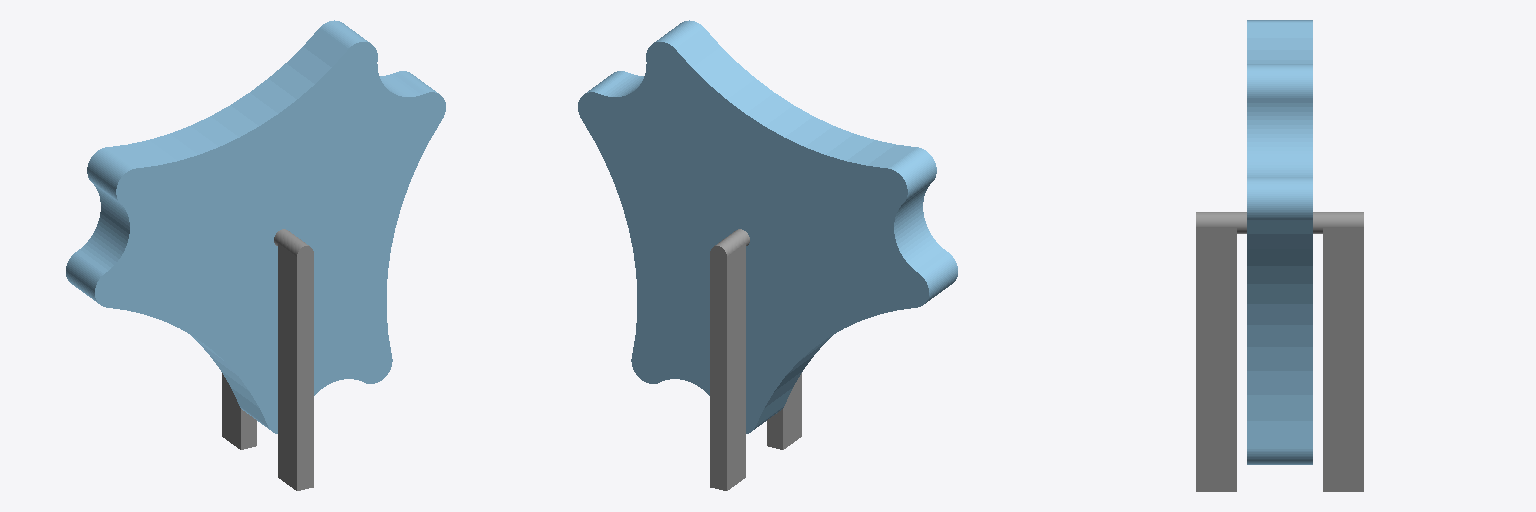
robot.urdf — onshape:
<robot name="onshape">
<link name="wheel">
    <visual>
    <origin xyz="0 0 0" rpy="0 -0 0" />
    <geometry>
    <mesh filename="package://enph353_ros_lab/urdf/wheelsep1/base_plate.stl"/>
    </geometry>
    <material name="base_plate_material">
    <color rgba="0.231373 0.380392 0.705882 1.0"/>
    </material>
    </visual>
    <collision>
    <origin xyz="0 0 0" rpy="0 -0 0" />
    <geometry>
    <mesh filename="package://enph353_ros_lab/urdf/wheelsep1/base_plate.stl"/>
    </geometry>
    <material name="base_plate_material">
    <color rgba="0.231373 0.380392 0.705882 1.0"/>
    </material>
    </collision>
<visual>
<origin xyz="0.0606385 -0.000454 0.153337" rpy="3.14159 -0.753171 3.14159" />
<geometry>
<mesh filename="package://enph353_ros_lab/urdf/wheelsep1/wheel.stl"/>
</geometry>
<material name="wheel_material">
<color rgba="0.615686 0.811765 0.929412 1.0"/>
</material>
</visual>
<collision>
<origin xyz="0.0606385 -0.000454 0.153337" rpy="3.14159 -0.753171 3.14159" />
<geometry>
<mesh filename="package://enph353_ros_lab/urdf/wheelsep1/wheel.stl"/>
</geometry>
<material name="wheel_material">
<color rgba="0.615686 0.811765 0.929412 1.0"/>
</material>
</collision>
<inertial>
<origin xyz="0 -2.04256e-16 0.0886586" rpy="0 0 0"/>
<mass value="0.141446" />
<inertia ixx="0.000141657" ixy="1.14509e-20"  ixz="1.0276e-20" iyy="0.000273959" iyz="3.69159e-22" izz="0.000141657" />
</inertial>
</link>

<link name="stand">
<visual>
<origin xyz="-4.33681e-19 0.0886586 1.38778e-17" rpy="1.5708 -0 0" />
<geometry>
<mesh filename="package://enph353_ros_lab/urdf/wheelsep1/stand.stl"/>
</geometry>
<material name="stand_material">
<color rgba="0.647059 0.647059 0.647059 1.0"/>
</material>
</visual>
<collision>
<origin xyz="-4.33681e-19 0.0886586 1.38778e-17" rpy="1.5708 -0 0" />
<geometry>
<mesh filename="package://enph353_ros_lab/urdf/wheelsep1/stand.stl"/>
</geometry>
<material name="stand_material">
<color rgba="0.647059 0.647059 0.647059 1.0"/>
</material>
</collision>
<inertial>
<origin xyz="-1.28439e-19 0.0406877 1.46998e-17" rpy="0 0 0"/>
<mass value="453.592" />
<inertia ixx="0.50797" ixy="0"  ixz="0" iyy="0.168552" iyz="0" izz="0.342614" />
</inertial>
</link>

<joint name="revolute" type="revolute">
<origin xyz="4.33681e-19 -1.38778e-17 0.0886586" rpy="-1.5708 -0 0" />
<parent link="wheel" />
<child link="stand" />
<axis xyz="0 0 1"/>
<limit effort="1" velocity="20" />
<joint_properties friction="0.0"/>
</joint>


</robot>

--- Facts derived from the render (not from the file) ---
3 views of the same robot in one strip: view 1: azimuth 30°, elevation 25°; view 2: azimuth 150°, elevation 25°; view 3: azimuth 270°, elevation 25° (orthographic).
Robot: onshape — 2 links, 1 joints (1 revolute); root link wheel; default pose: every joint at zero.
Visible links, largest first — view 1: wheel, stand; view 2: wheel, stand; view 3: wheel, stand.
Boxes of the visible links, bbox=[...] form: wheel: bbox=[66, 20, 445, 433]; stand: bbox=[222, 229, 313, 490]; wheel: bbox=[578, 20, 957, 433]; stand: bbox=[710, 229, 801, 490]; wheel: bbox=[1247, 20, 1312, 464]; stand: bbox=[1196, 212, 1363, 491].
Size in the robot's own frame: 0.1389 by 0.0513 by 0.1555 metres.
2 mesh visuals loaded from 3 distinct referenced files (2 binary STL); not drawn: 1 (reference not matched to a file when rendering).